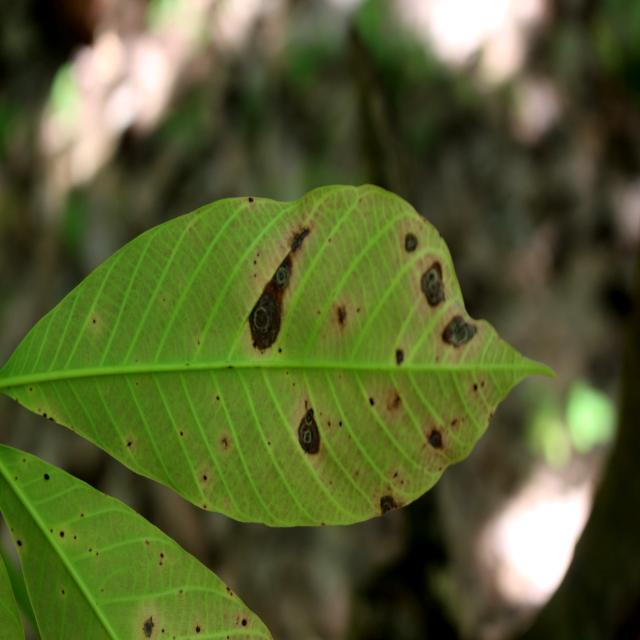Colletotrichum: (299, 418, 319, 454), (254, 307, 269, 332), (430, 430, 442, 449), (406, 234, 418, 252), (276, 268, 286, 285)
